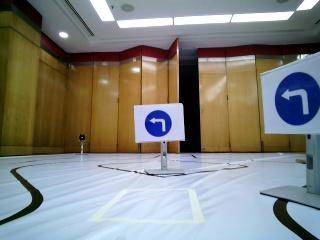left: (260, 74, 320, 133), (132, 107, 186, 141)
